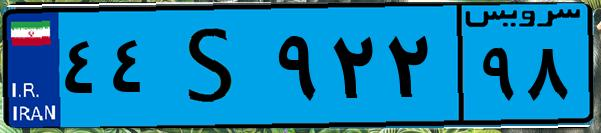2: (385, 28, 445, 110), (330, 28, 385, 110)
4: (57, 26, 110, 100), (110, 28, 158, 98)
8: (525, 38, 570, 115)
9: (270, 28, 330, 110), (475, 38, 525, 113)
S: (158, 12, 270, 120)
